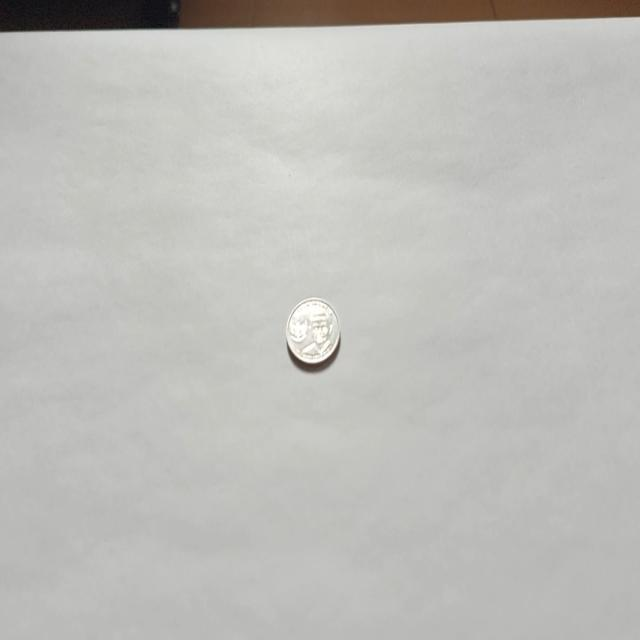seribu rupiah koin: (285, 295, 340, 366)
